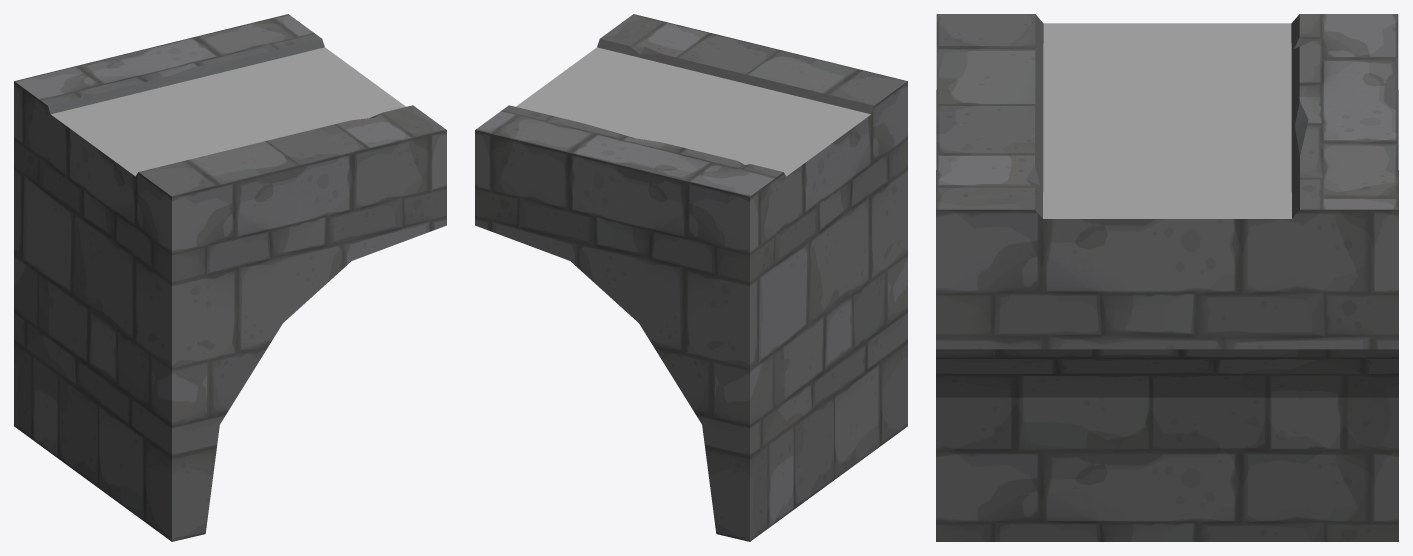
The model's file is SM_Bld_Bridge_L_01.fbx.
The picture shows the model from 3 angles, left to right: view 1: azimuth 30°, elevation 25°; view 2: azimuth 150°, elevation 25°; view 3: azimuth 270°, elevation 25°; orthographic projection. The views are drawn at different scales.
Parts seen in each view (by area): view 1: SM_Bld_Bridge_L_01; view 2: SM_Bld_Bridge_L_01; view 3: SM_Bld_Bridge_L_01.
Boxes of the visible parts, x1,y1,x2,y2 form: SM_Bld_Bridge_L_01: [14, 14, 446, 541]; SM_Bld_Bridge_L_01: [475, 14, 907, 541]; SM_Bld_Bridge_L_01: [936, 14, 1398, 541].
Bounding box in the file's own units: 500 × 601 × 500.
2 materials, 1 textured.
